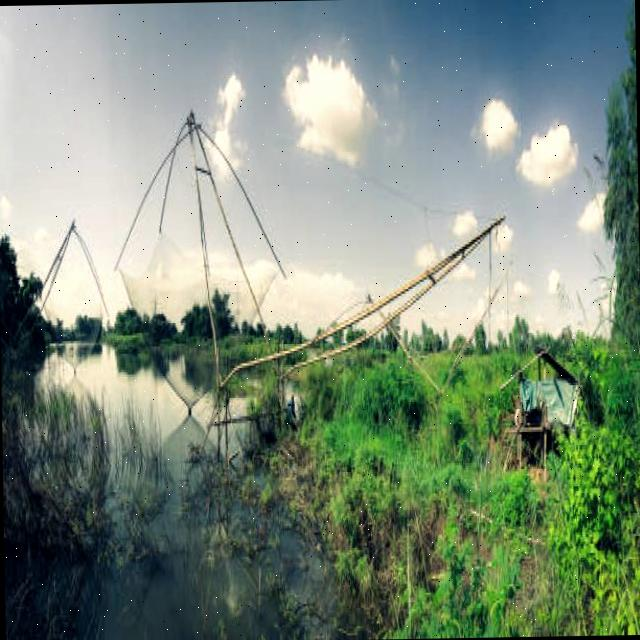Broken Pole: (224, 210, 508, 398)
